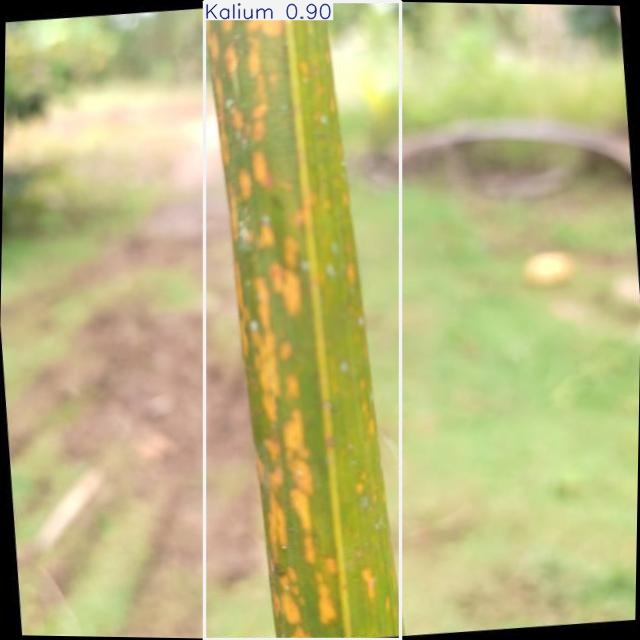Kalium: (205, 1, 400, 639)
